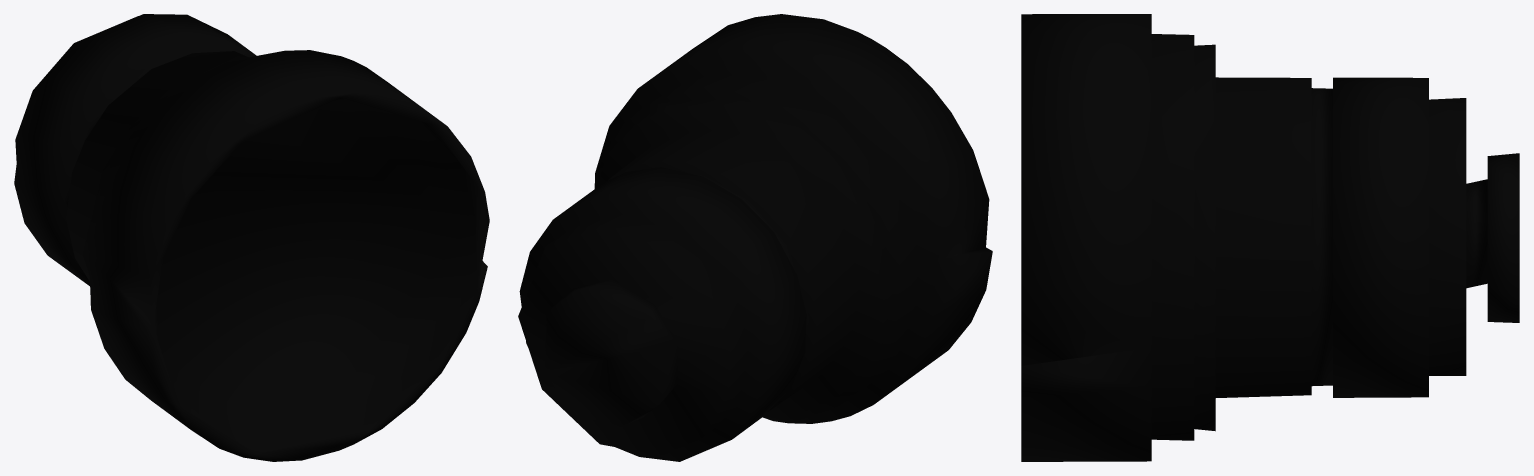
The model's file is head_camera.obj.
3 renders of one model, left to right at view 1: azimuth 30°, elevation 25°; view 2: azimuth 150°, elevation 25°; view 3: azimuth 270°, elevation 25°, orthographic. The views are drawn at different scales.
Bounding box in the file's own units: 0.0419 × 0.042 × 0.0467.
Materials: 1 (1 with a texture image).
